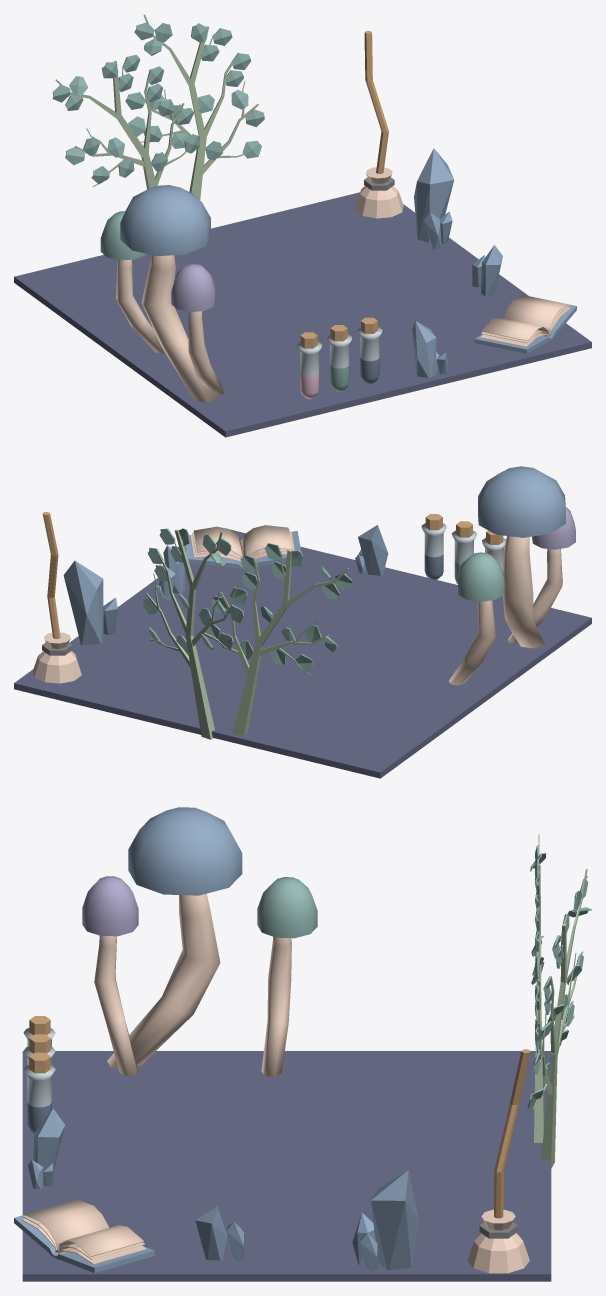
File: meta3.glb
The picture shows the model from 3 angles, top to bottom: view 1: azimuth 30°, elevation 25°; view 2: azimuth 150°, elevation 25°; view 3: azimuth 270°, elevation 25°; orthographic projection. The views are drawn at different scales.
Parts seen in each view (by area): view 1: meta3; view 2: meta3; view 3: meta3.
Boxes of the visible parts, left/top/right/bottom form: meta3: left=14, top=14, right=591, bottom=437; meta3: left=14, top=466, right=591, bottom=778; meta3: left=14, top=807, right=591, bottom=1281.
Bounding box in the file's own units: 4.01 × 2.08 × 3.88.
1 material, 1 textured.
